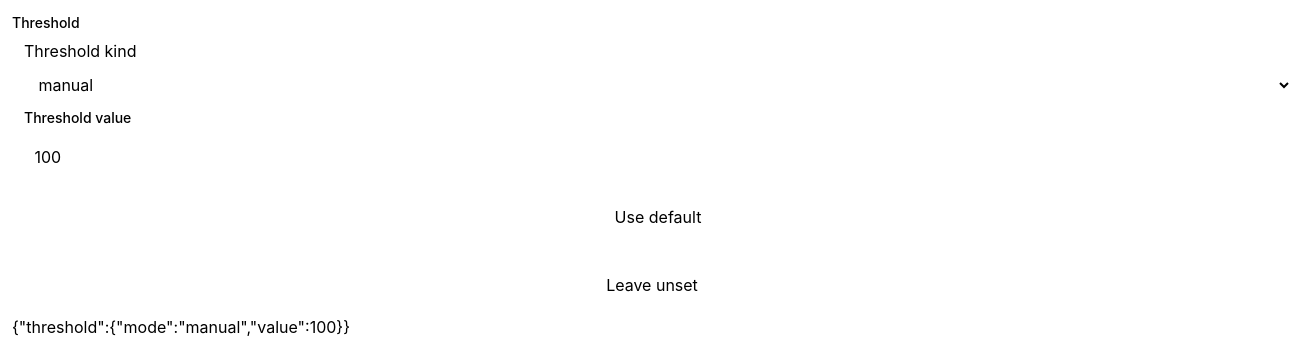
Scenario: bounded pipeline parameter controls › switches discriminator variants and drops parameters from the previous kind
Select "automatic" in the dropdown labelled "Threshold kind" at point(658, 85), box [24, 63, 1292, 107]
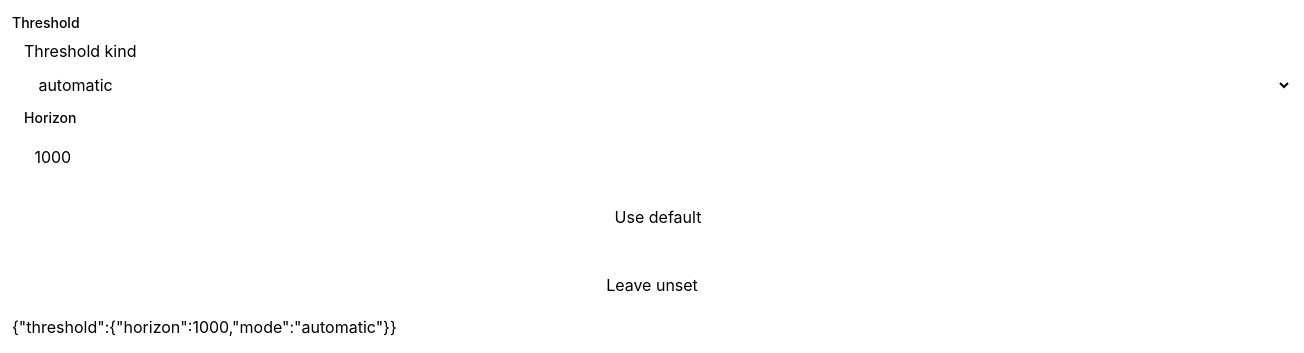
Expected: the label "Threshold value" is gone
Expected: the number field labelled "Horizon" is shown, [24, 135, 1292, 179]
